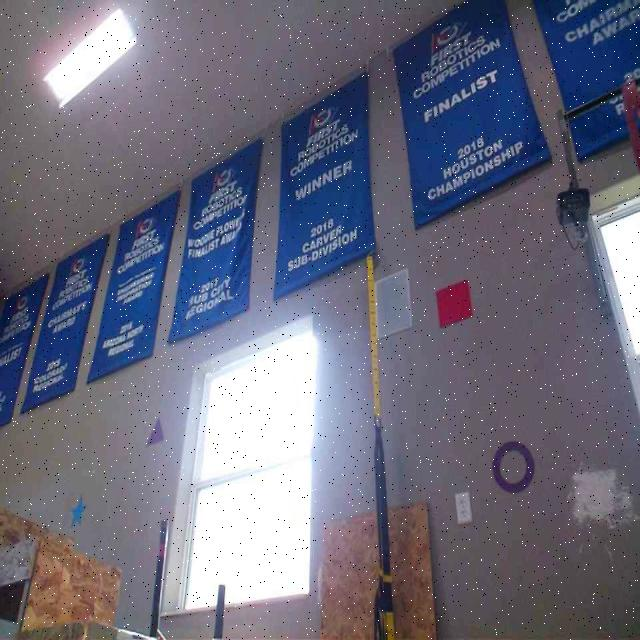ring_purple: (490, 440, 535, 493)
square_red: (435, 279, 473, 325)
star_blue: (69, 497, 85, 524)
triangle_purple: (144, 418, 162, 443)
